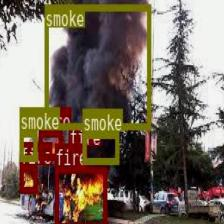fire: (54, 165, 105, 224), (38, 130, 61, 159), (19, 165, 36, 192), (68, 146, 76, 160)
smoke: (44, 3, 150, 128), (82, 132, 118, 162), (20, 130, 36, 160)
